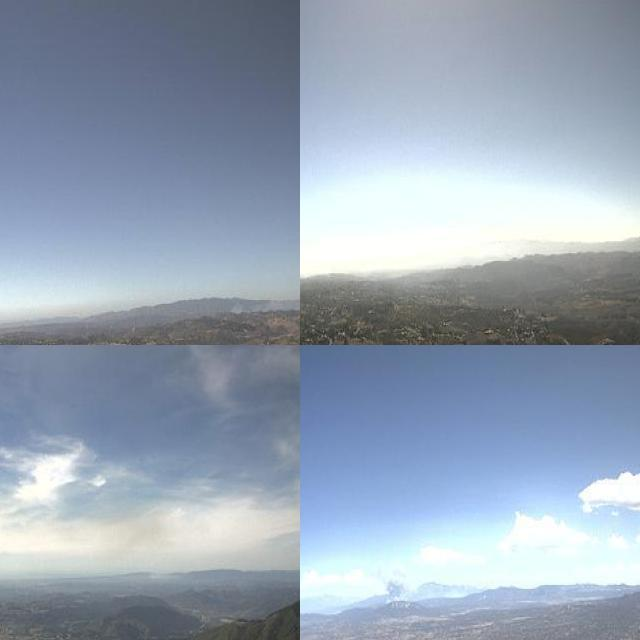smoke: (224, 289, 300, 314), (374, 569, 417, 604)
